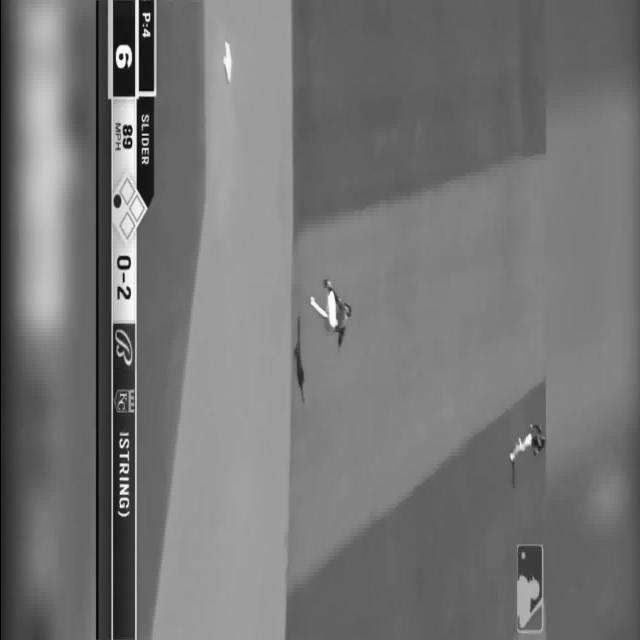shoe: (323, 278, 331, 288), (509, 452, 515, 461), (309, 296, 314, 306), (517, 436, 521, 446)
